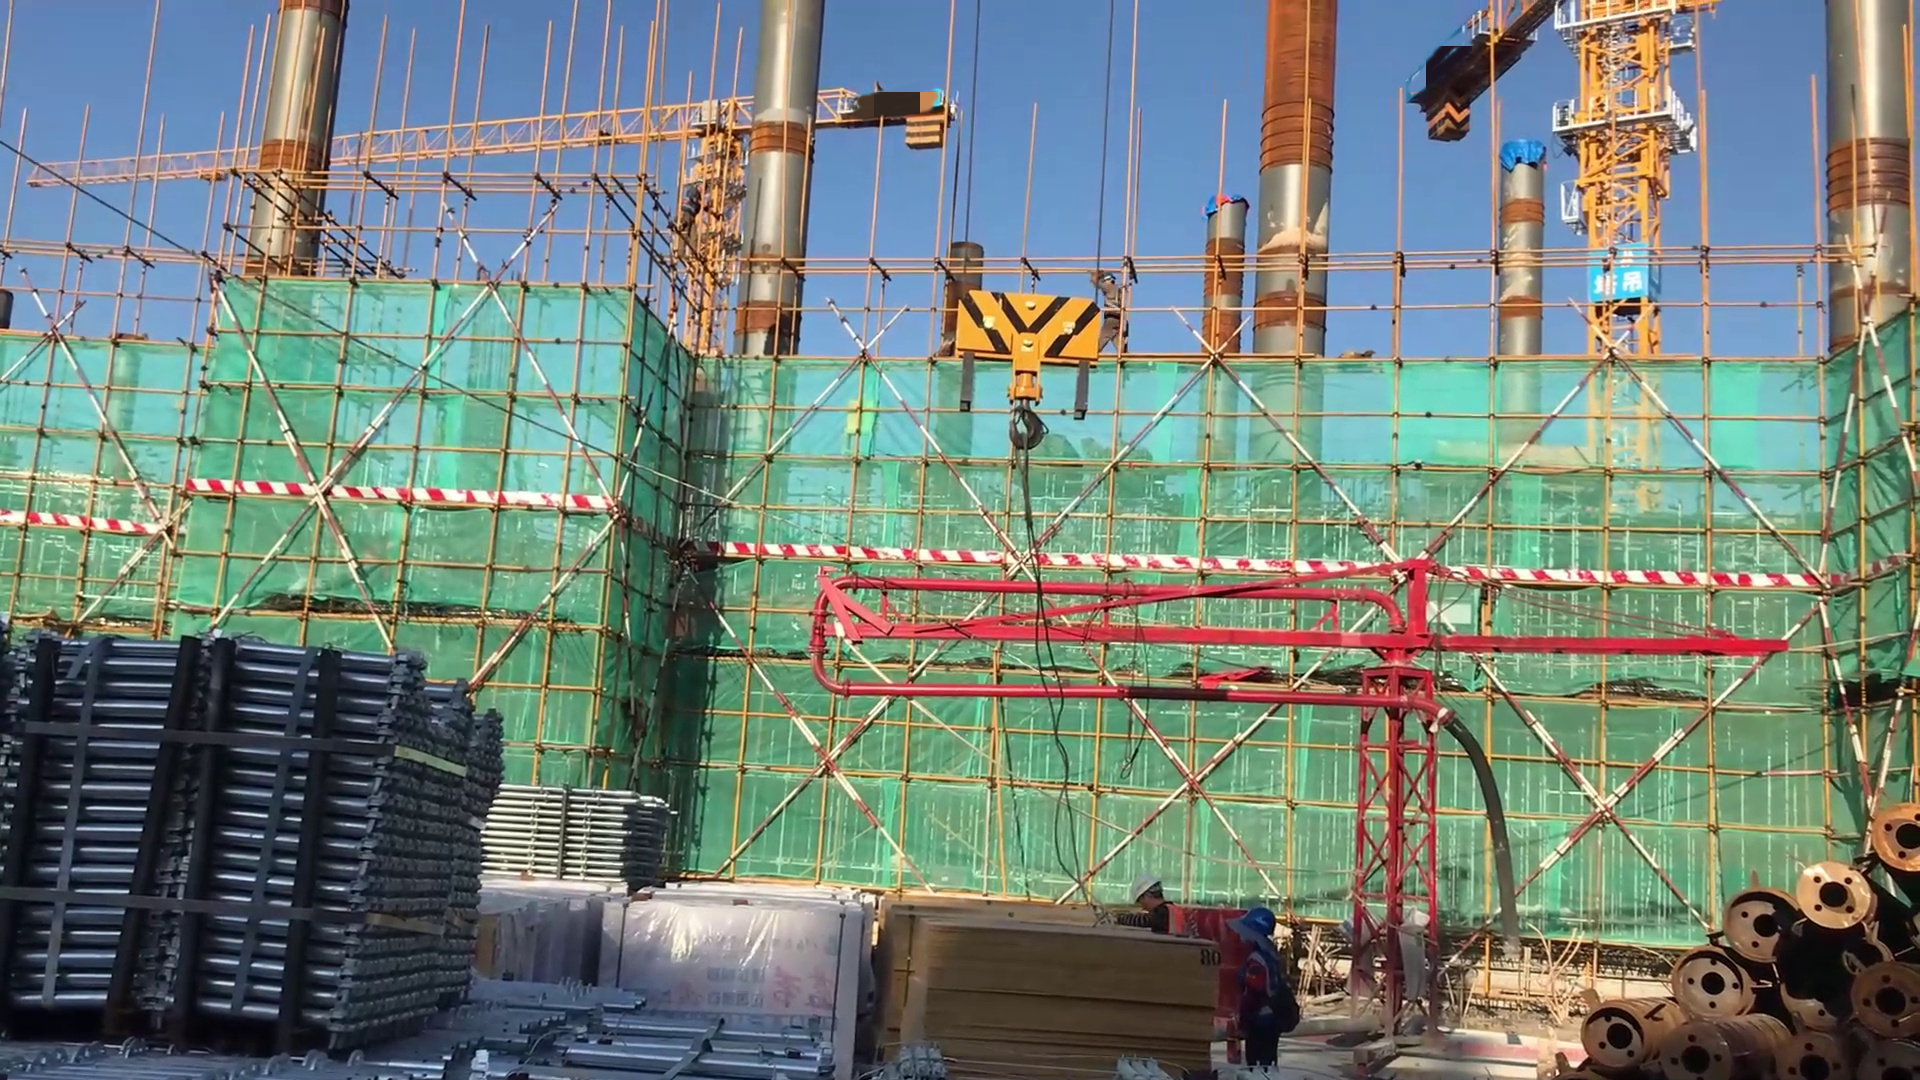board: (887, 897, 1211, 1073)
helmet: (1120, 871, 1169, 905), (1241, 903, 1282, 936), (1101, 269, 1122, 284)
hook: (938, 269, 1112, 477)
person: (1215, 889, 1306, 1080), (1088, 878, 1201, 942), (1086, 254, 1141, 369)
scaffold: (1, 634, 515, 1043), (1, 964, 626, 1080), (441, 989, 858, 1080), (475, 780, 676, 876)
slogan: (1594, 245, 1663, 307)
vest: (1238, 939, 1295, 1047), (1145, 906, 1194, 936)
